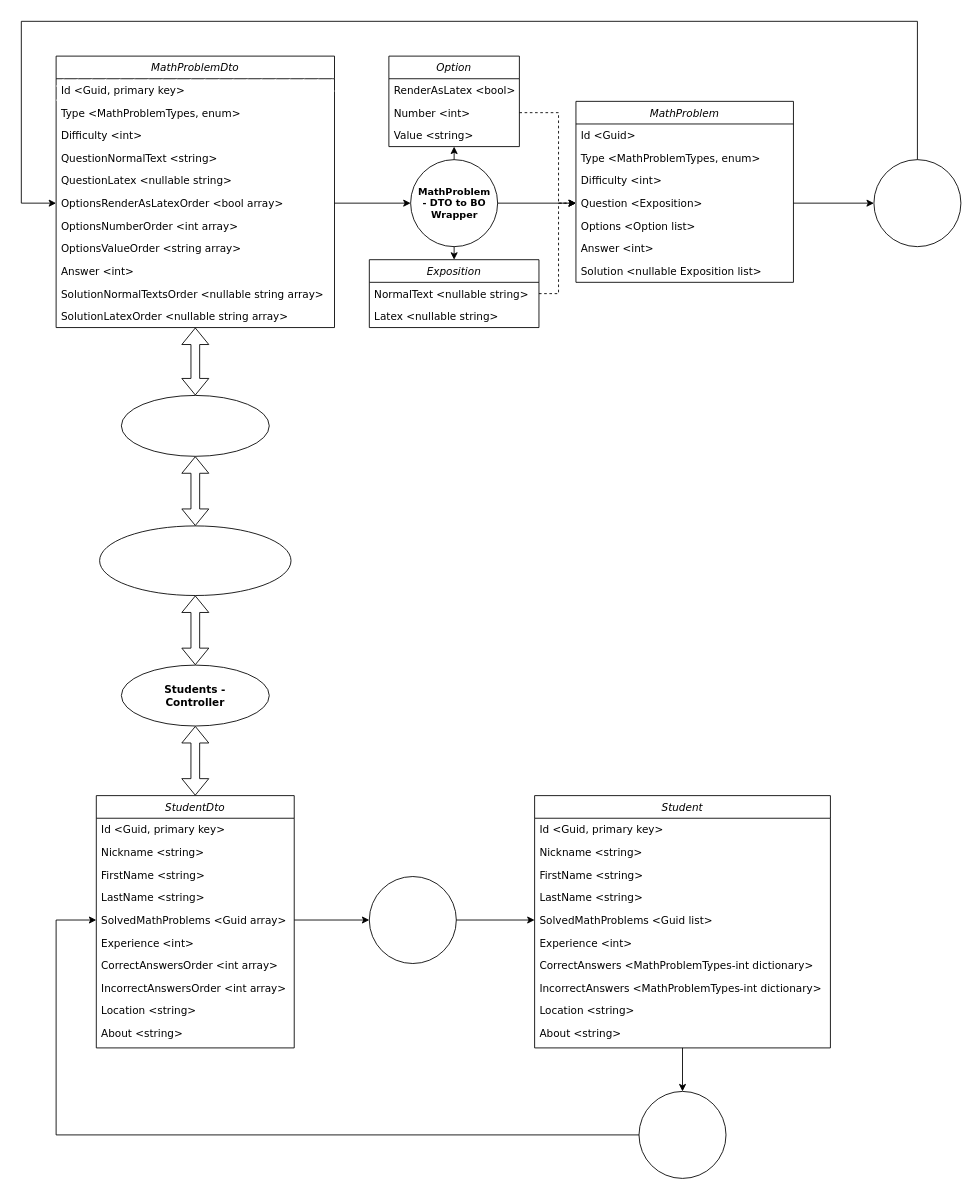
Some shapes in this 976 by 1194 pixel diagram are drawn without their labels. The centre of each missing label's shape, as x and y in pixels:
"Database" goes at (195,560).
"MathProblem - BO to DTO Wrapper" goes at (917,203).
"MathProblems - Controller" goes at (194,425).
"Student - BO to DTO Wrapper" goes at (682,1134).
"Student - DTO to BO Wrapper" goes at (412,920).
